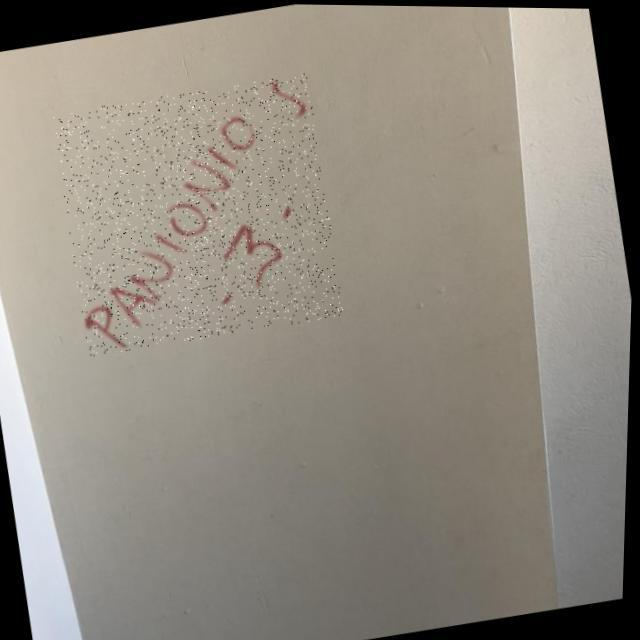-: (46, 69, 352, 359)
